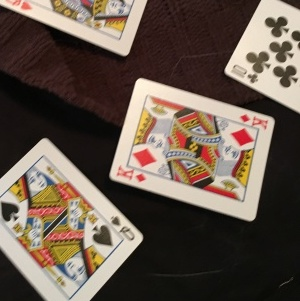card: (111, 78, 275, 223)
